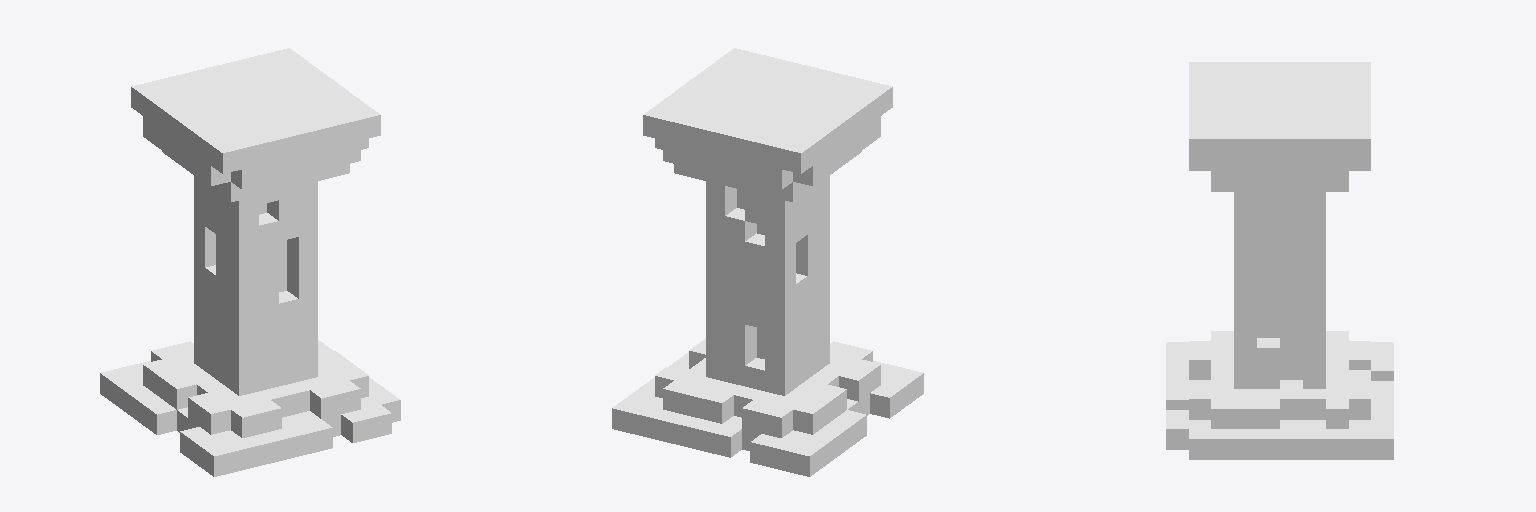
The model's file is church-7-cata_pillarolds.obj.
3 views of the same model, side by side, from view 1: azimuth 30°, elevation 25°; view 2: azimuth 150°, elevation 25°; view 3: azimuth 270°, elevation 25° (orthographic).
Parts seen in each view (by area): view 1: cata_pillarolds; view 2: cata_pillarolds; view 3: cata_pillarolds.
Part boxes in pixels (bbox=[...]): cata_pillarolds: bbox=[100, 48, 400, 476]; cata_pillarolds: bbox=[612, 48, 923, 476]; cata_pillarolds: bbox=[1166, 62, 1393, 459].
Size of the model in its own units: 1 by 1.5 by 1.